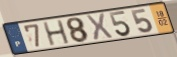5: (129, 7, 155, 34), (108, 9, 132, 38)
7: (22, 23, 41, 49)
8: (65, 16, 90, 44)
H: (41, 19, 72, 47)
X: (84, 12, 115, 42)
